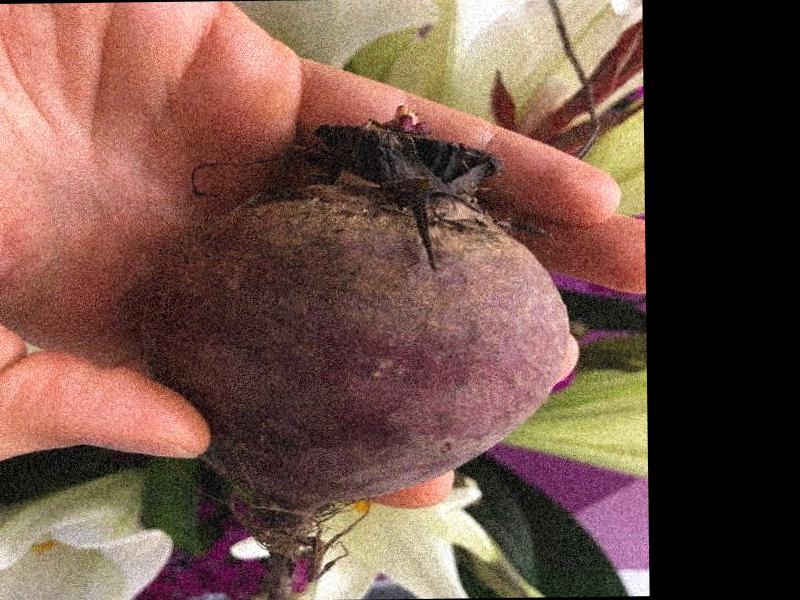Beet: (140, 107, 575, 599)
